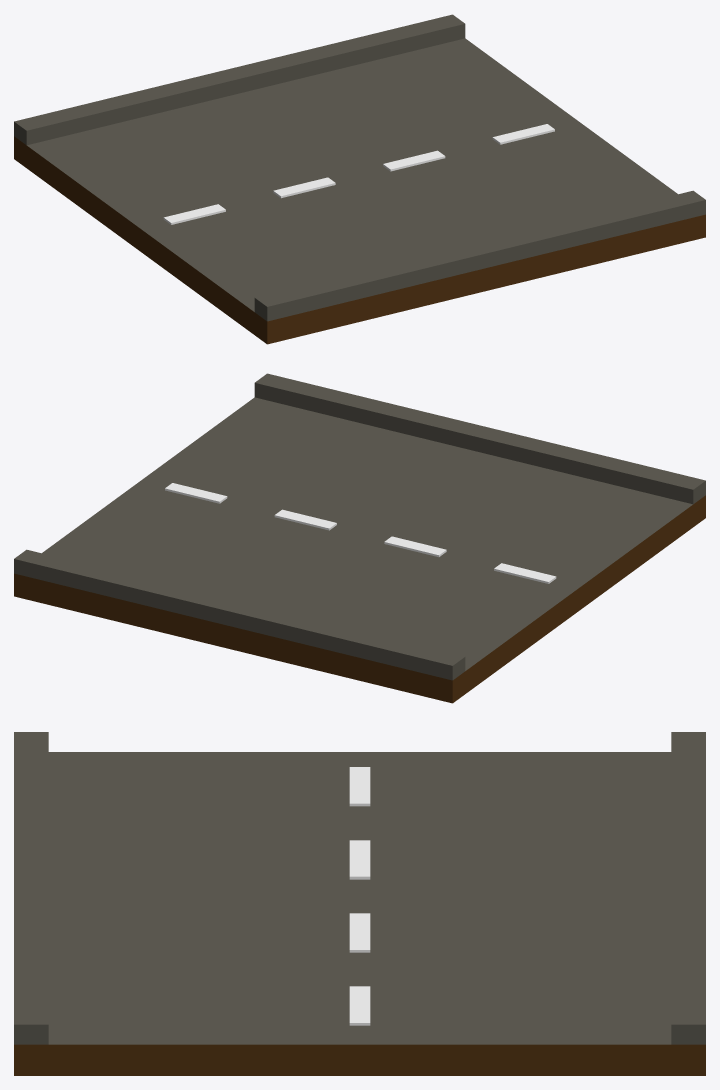
Rendered from CityRoadStraight_02.fbx.
The picture shows the model from 3 angles, top to bottom: view 1: azimuth 30°, elevation 25°; view 2: azimuth 150°, elevation 25°; view 3: azimuth 270°, elevation 25°; orthographic projection. The views are drawn at different scales.
Parts seen in each view (by area): view 1: CityRoadStraight_02; view 2: CityRoadStraight_02; view 3: CityRoadStraight_02.
Boxes of the visible parts, x1,y1,x2,y2 form: CityRoadStraight_02: (14, 14, 705, 344); CityRoadStraight_02: (14, 373, 705, 703); CityRoadStraight_02: (14, 732, 705, 1075).
Bounding box in the file's own units: 1 × 0.0818 × 1.
